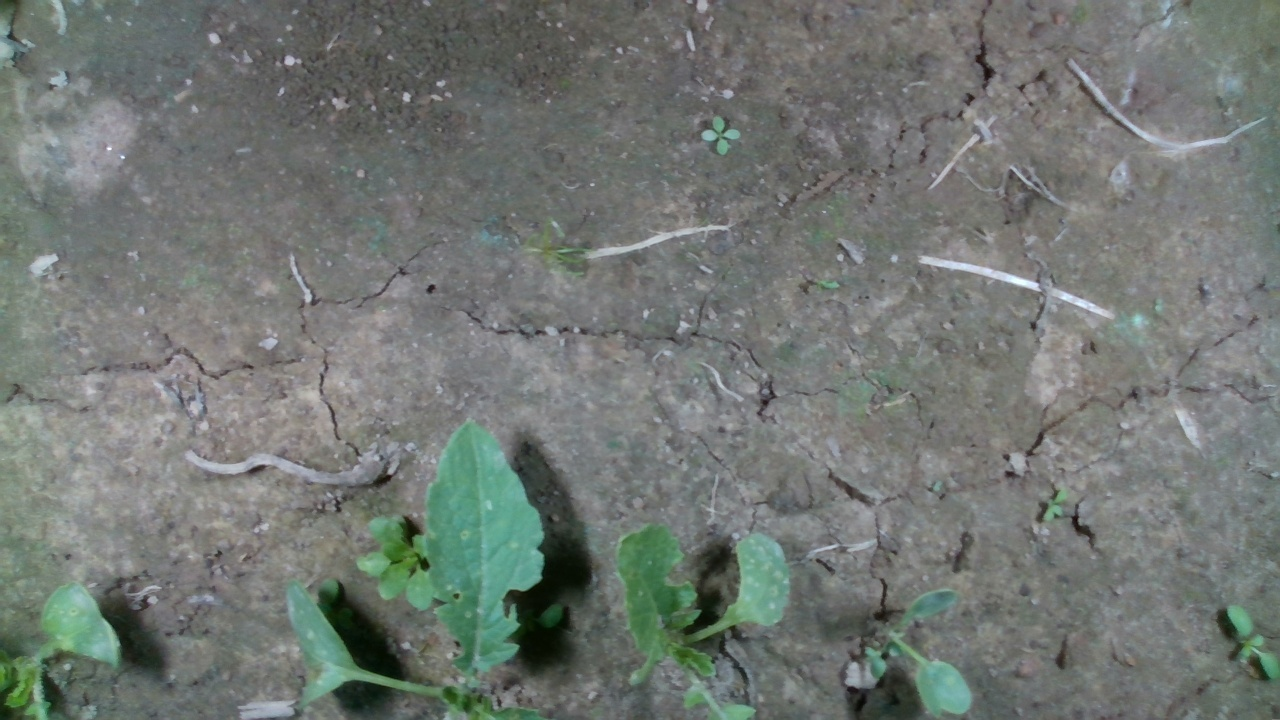weed: (698, 113, 740, 155), (1041, 487, 1069, 523)
